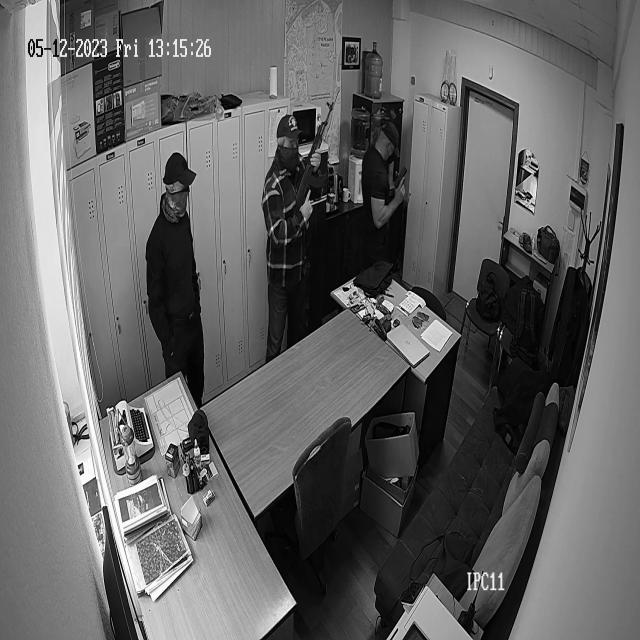gun: (290, 97, 336, 231), (394, 167, 409, 203)
person: (148, 153, 204, 373)
person with a gun: (266, 102, 337, 356), (361, 119, 408, 268)
